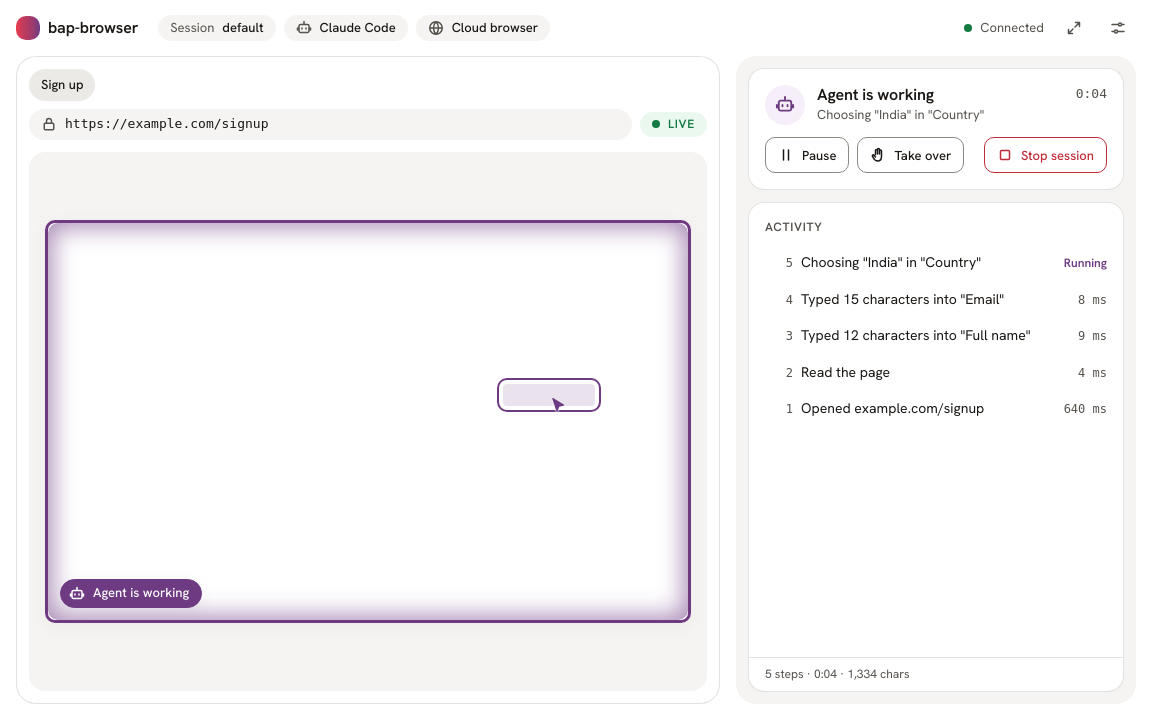
Test case: controls › Pause sends pause and becomes Resume
Click the button "Pause".
click(807, 155)  # box left=765, top=137, right=850, bottom=173
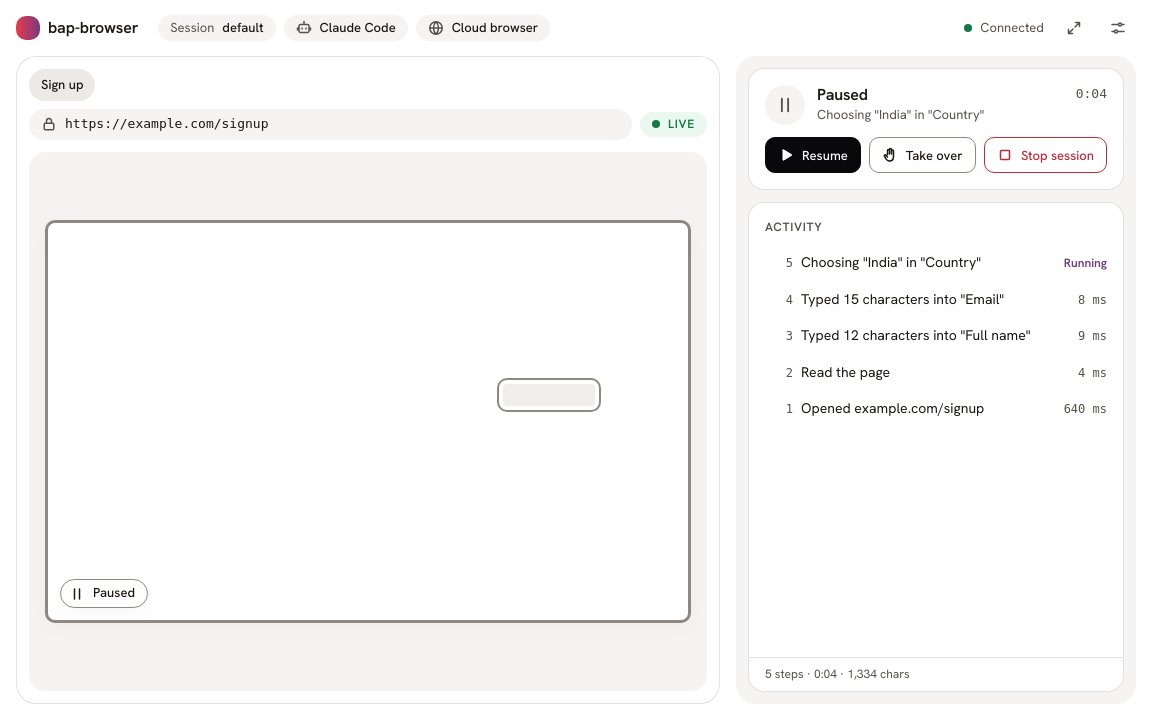
Click the button "Resume".
click(813, 155)  # box left=765, top=137, right=861, bottom=173
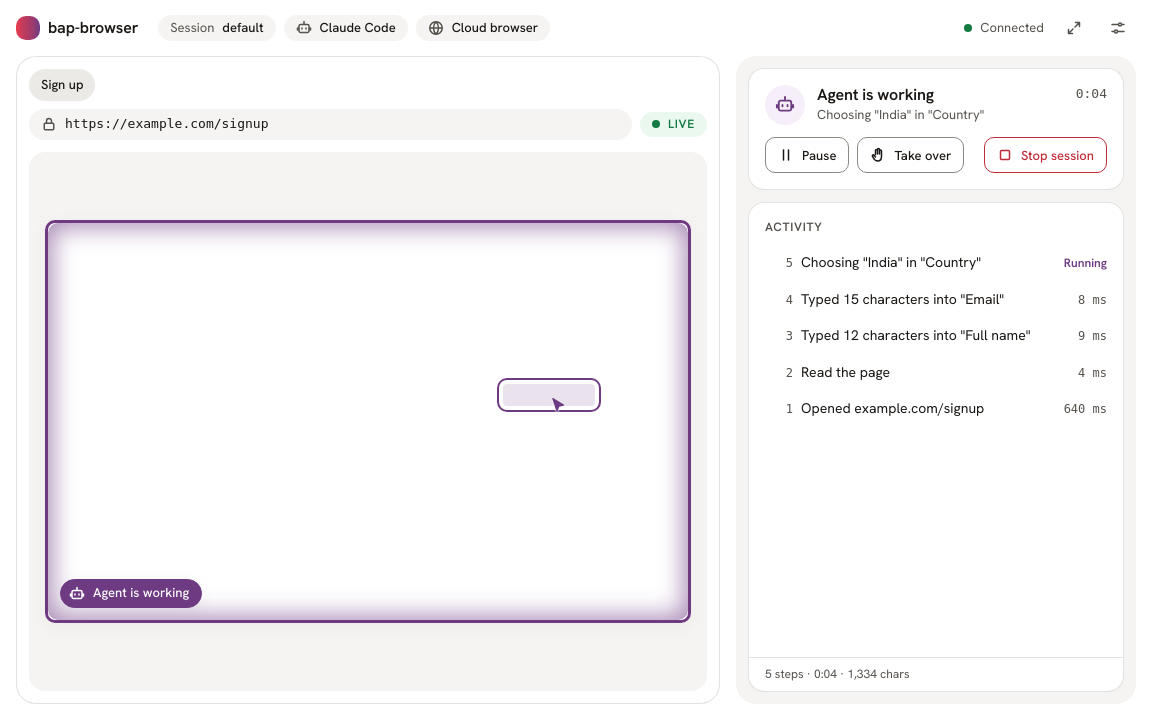
Expected: the button "Pause" is shown, left=765, top=137, right=850, bottom=173
